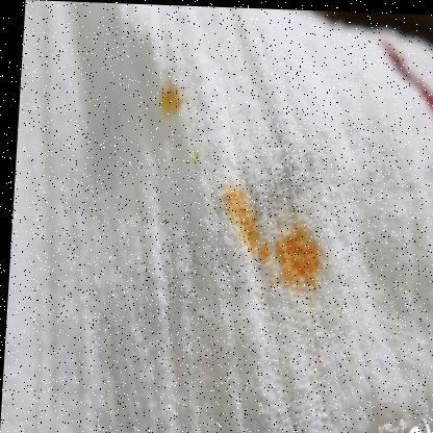kimchi: (272, 224, 332, 289), (220, 185, 270, 261), (156, 76, 192, 120), (185, 148, 204, 165)
